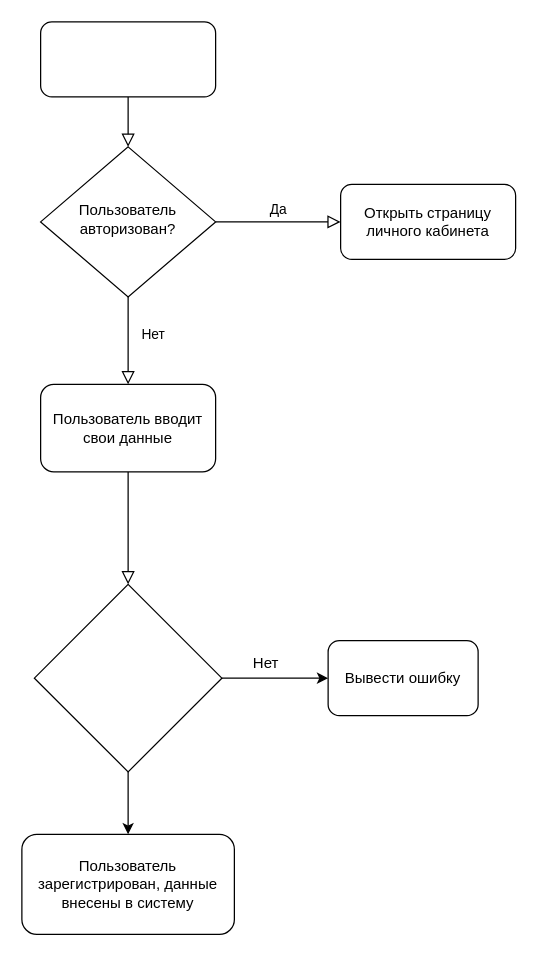
This 538x956 diagram has some shape labels left out. Here are the shapes that lost their labels. From the top down, the centre of each, then its label:
At pixel 127 59: "Пользователь открывает страницу регистрации".
At pixel 127 677: "Проверка данных на корректность".
